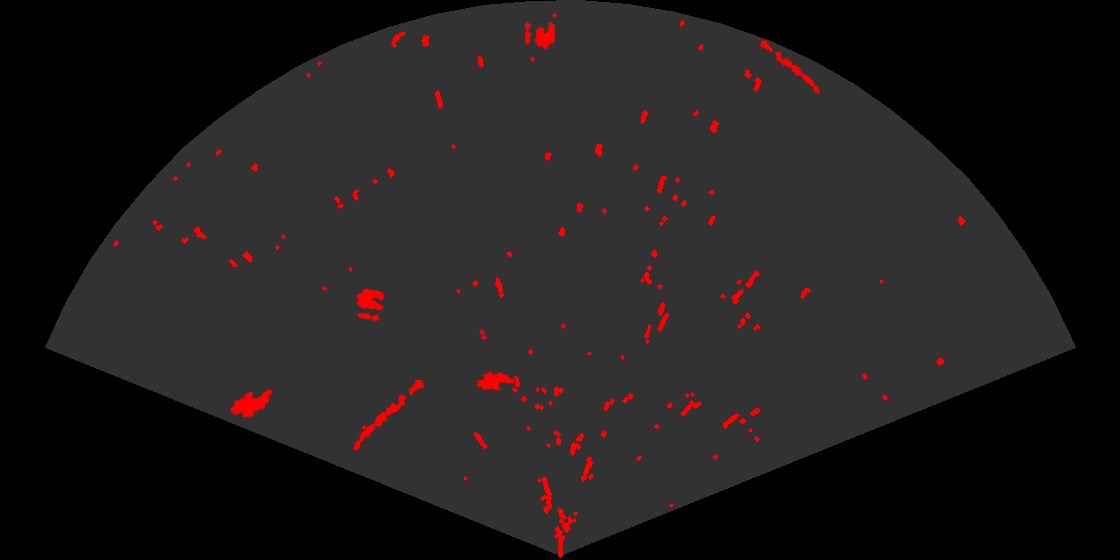AUV: (229, 388, 274, 419), (475, 370, 517, 392)
ball: (355, 287, 387, 323), (524, 20, 556, 50)
chain: (352, 378, 426, 452), (754, 35, 822, 96)
